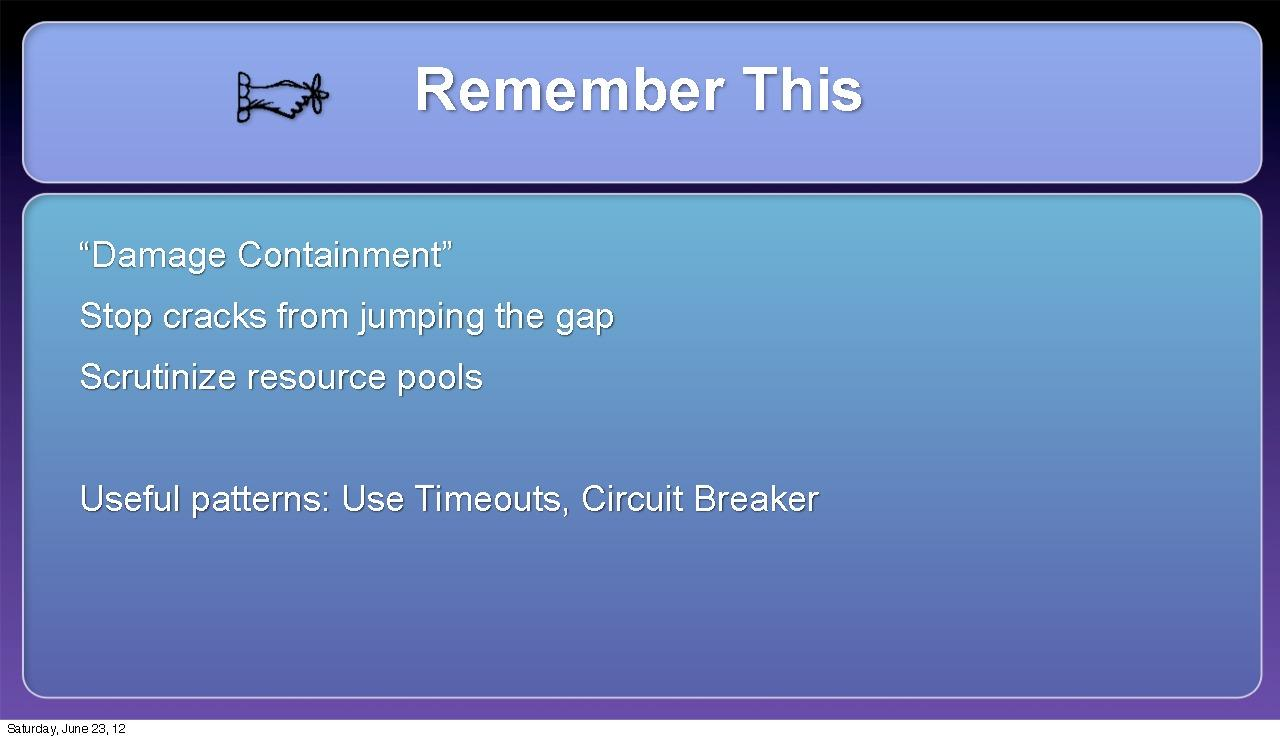paragraph: (59, 208, 943, 566)
title: (407, 26, 888, 146)
